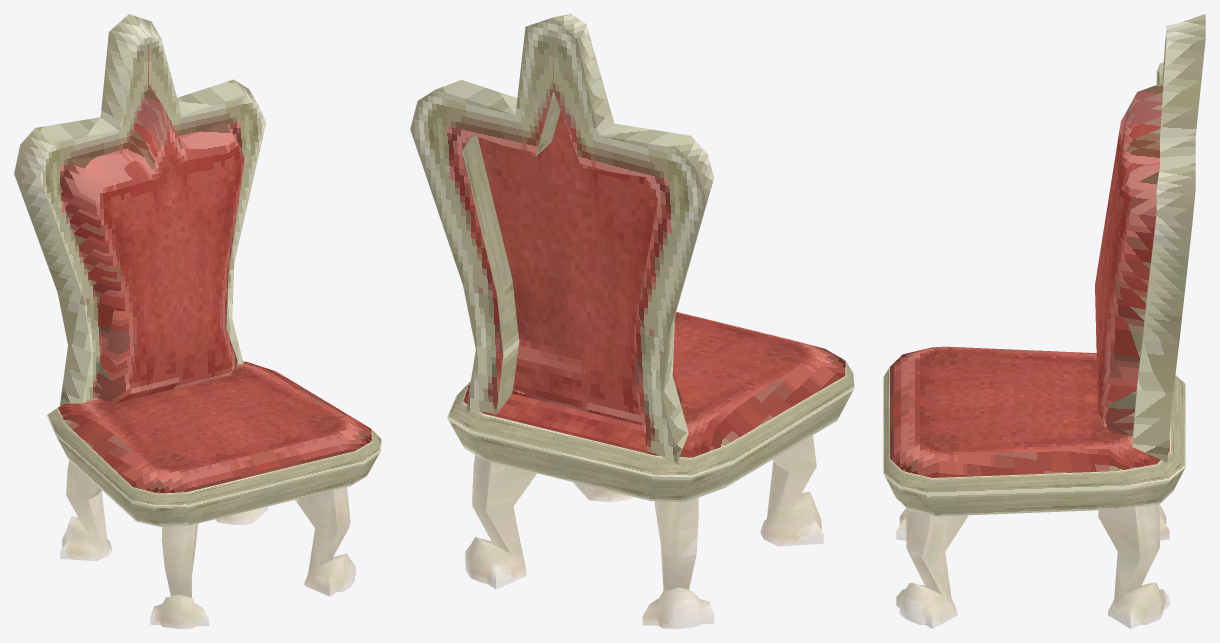
Rendered from isu25.glb.
3 renders of one model, left to right at view 1: azimuth 30°, elevation 25°; view 2: azimuth 150°, elevation 25°; view 3: azimuth 270°, elevation 25°, orthographic. The views are drawn at different scales.
Visible parts, largest first — view 1: isu25; view 2: isu25; view 3: isu25.
Part boxes in pixels (bbox=[...]): isu25: bbox=[14, 14, 381, 628]; isu25: bbox=[410, 14, 854, 628]; isu25: bbox=[883, 14, 1205, 628].
Size of the model in its own units: 100 by 189 by 99.
Materials: 2 (2 with a texture image).
